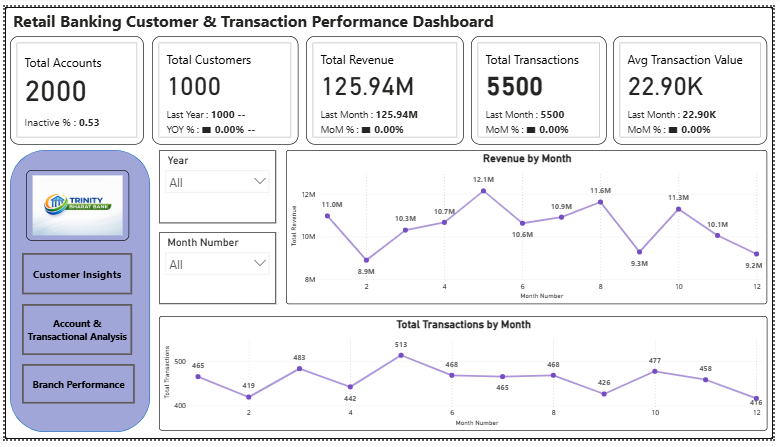

The dashboard page shown, as its layout file describes it:
{"tool":"powerbi","page":{"name":"Summary","canvas":[1280,720],"ordinal":0},"visuals":[{"type":"textbox","box":[8.9,0,890.3,48.3],"z":0},{"type":"shape","box":[8.8,238,233.6,470.2],"z":1000},{"type":"image","box":[35.3,271.8,171.9,117.6],"z":2000},{"type":"lineChart","title":"Revenue by Month","fields":{"Y":["transactions.Total Revenue"],"Category":["date.Month Number"]},"box":[468.7,238,802.3,257.1],"z":3000},{"type":"lineChart","title":"Total Transactions by Month","fields":{"Y":["transactions.Total Transactions"],"Category":["date.Month Number"]},"box":[257.4,514.9,1013.6,191.3],"z":4000},{"type":"actionButton","box":[27.9,410,183.7,69.1],"z":5000},{"type":"actionButton","box":[27.9,495.2,183.7,85.2],"z":6000},{"type":"actionButton","box":[27.9,595.1,188.1,66.1],"z":7000},{"type":"cardVisual","fields":{"Data":["transactions.Avg Transaction Value"]},"box":[1013.9,48.5,257.1,180.7],"z":8000},{"type":"cardVisual","fields":{"Data":["transactions.Total Transactions"]},"box":[775.8,48.5,226.3,180.7],"z":9000},{"type":"cardVisual","fields":{"Data":["customers.Total Customers"]},"box":[245.4,48.5,243.9,180.7],"z":10000},{"type":"cardVisual","fields":{"Data":["transactions.Total Revenue"]},"box":[501.1,48.5,263,180.7],"z":11000},{"type":"cardVisual","fields":{"Data":["accounts.Total Accounts"]},"box":[8.8,48.5,223.3,180.7],"z":12000},{"type":"slicer","fields":{"Values":["date.Year"]},"box":[257.1,238,195.4,122],"z":13000},{"type":"slicer","fields":{"Values":["date.Month Number"]},"box":[257.1,374.7,195.4,120.5],"z":14000}]}

Visuals, with their boxes in screenshot pixels (x1, y1, x2, y2), scaled from the page's 1280x720 canvas onto the 780x447 screenshot:
textbox: bbox=[5, 0, 548, 30]
shape: bbox=[5, 148, 148, 440]
image: bbox=[22, 169, 126, 242]
"Revenue by Month" lineChart: bbox=[286, 148, 775, 307]
"Total Transactions by Month" lineChart: bbox=[157, 320, 775, 438]
actionButton: bbox=[17, 255, 129, 297]
actionButton: bbox=[17, 307, 129, 360]
actionButton: bbox=[17, 369, 132, 410]
cardVisual - transactions.Avg Transaction Value: bbox=[618, 30, 775, 142]
cardVisual - transactions.Total Transactions: bbox=[473, 30, 611, 142]
cardVisual - customers.Total Customers: bbox=[150, 30, 298, 142]
cardVisual - transactions.Total Revenue: bbox=[305, 30, 466, 142]
cardVisual - accounts.Total Accounts: bbox=[5, 30, 141, 142]
slicer - date.Year: bbox=[157, 148, 276, 224]
slicer - date.Month Number: bbox=[157, 233, 276, 307]
